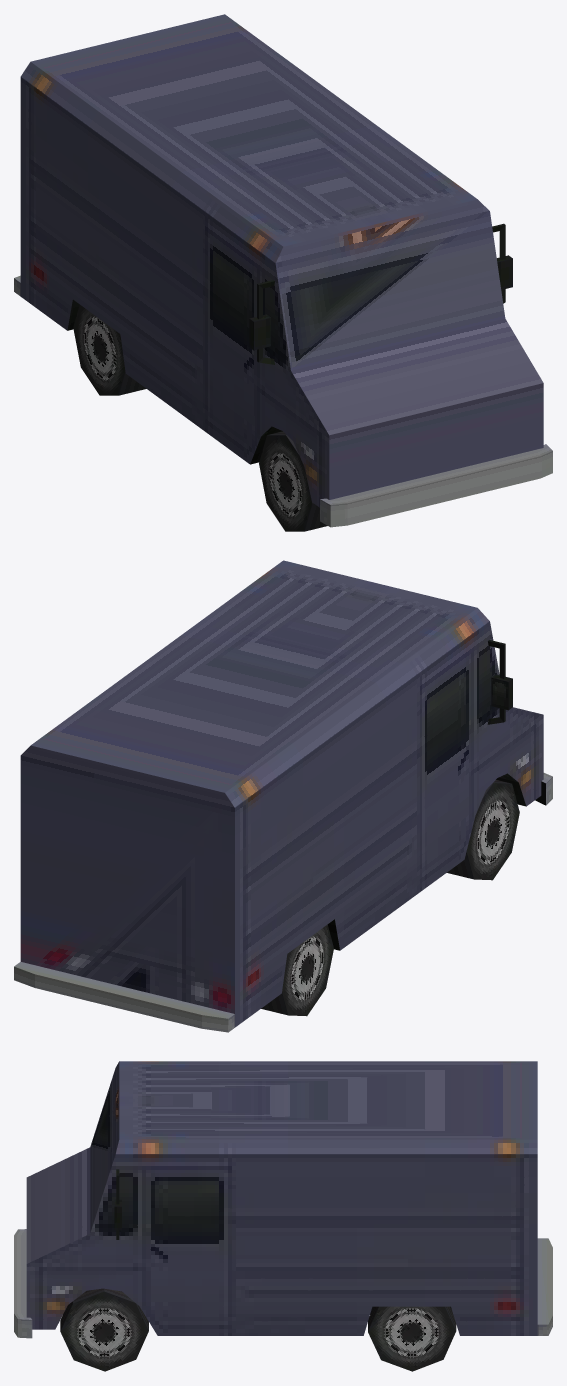
Rendered from car8-purple.lod.glb.
3 views of the same model, one above another, from view 1: azimuth 30°, elevation 25°; view 2: azimuth 150°, elevation 25°; view 3: azimuth 270°, elevation 25° (orthographic). The views are drawn at different scales.
Visible parts, largest first — view 1: Car8; view 2: Car8; view 3: Car8.
Boxes of the visible parts, left/top/right/bottom form: Car8: left=14, top=14, right=552, bottom=531; Car8: left=14, top=560, right=552, bottom=1032; Car8: left=14, top=1061, right=552, bottom=1371.
Size of the model in its own units: 3.17 by 3.23 by 6.89.
Materials: 1 (1 with a texture image).
